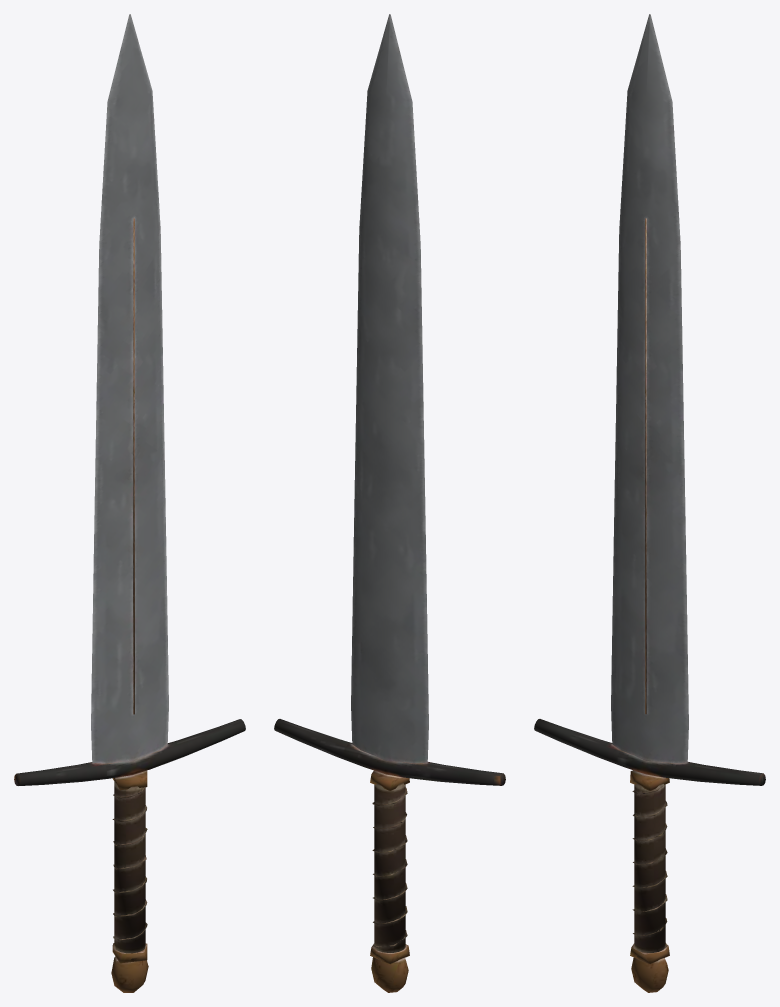
File: eq_greatsword_2_lod1.glb
The picture shows the model from 3 angles, left to right: view 1: azimuth 30°, elevation 25°; view 2: azimuth 150°, elevation 25°; view 3: azimuth 330°, elevation 25°; orthographic projection.
Parts seen in each view (by area): view 1: eq_greatsword_2_lod1; view 2: eq_greatsword_2_lod1; view 3: eq_greatsword_2_lod1.
Part boxes in pixels (box(x1,y1,x2,y2)): eq_greatsword_2_lod1: box(14, 14, 245, 992); eq_greatsword_2_lod1: box(274, 14, 505, 992); eq_greatsword_2_lod1: box(534, 14, 765, 992).
Size of the model in its own units: 0.4836 by 1.99 by 0.0698.
Materials: 1 (1 with a texture image).
